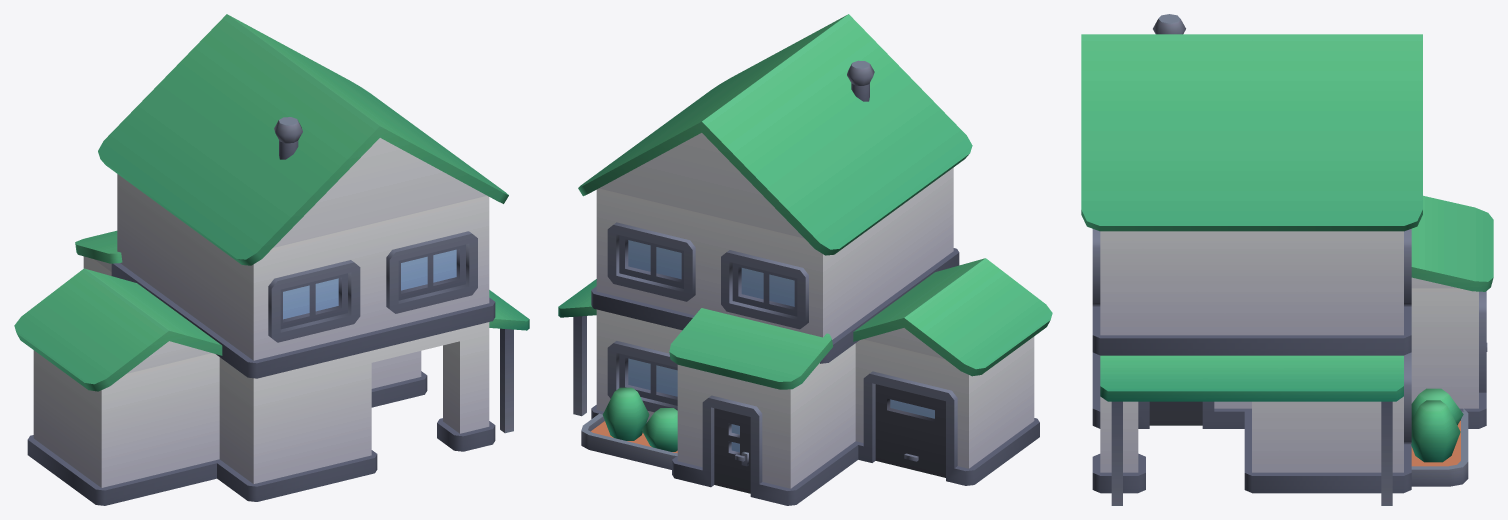
File: suburban.building_type_s.glb
3 renders of one model, left to right at view 1: azimuth 30°, elevation 25°; view 2: azimuth 150°, elevation 25°; view 3: azimuth 270°, elevation 25°, orthographic. The views are drawn at different scales.
Parts seen in each view (by area): view 1: building-type-s; view 2: building-type-s; view 3: building-type-s.
Part boxes in pixels (<box>): building-type-s: <box>14,14,529,505</box>; building-type-s: <box>558,14,1052,505</box>; building-type-s: <box>1081,14,1493,505</box>.
Bounding box in the file's own units: 7.73 × 6.26 × 5.98.
1 material, 1 textured.
